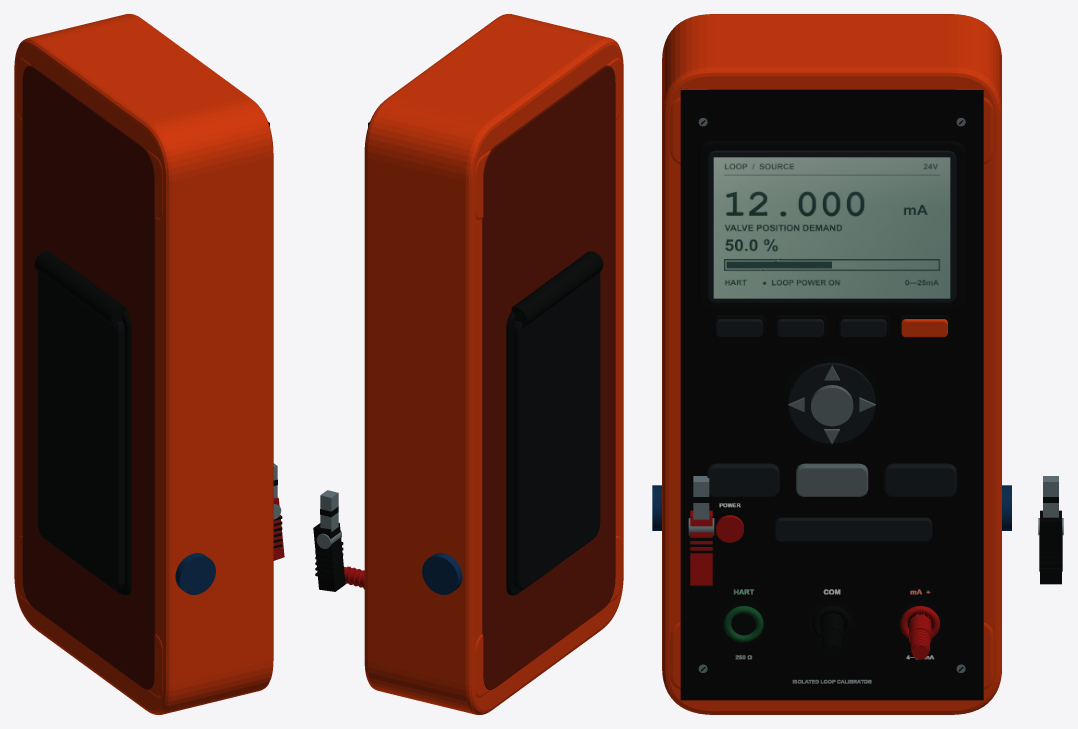
File: positioner-signal-source.fbx
3 views of the same model, side by side, from view 1: azimuth 30°, elevation 25°; view 2: azimuth 150°, elevation 25°; view 3: azimuth 270°, elevation 25° (orthographic). The views are drawn at different scales.
Visible parts, largest first — view 1: orange_shockproof_boot, rear_battery_cover, rear_folding_stand, rear_stand_hinge, rear_stand_recess, AA_battery_1, corner_bumper_8.6_-4.12, corner_bumper_-8.6_-4.12, corner_bumper_8.6_4.12, corner_bumper_-8.6_4.12; view 2: orange_shockproof_boot, rear_battery_cover, rear_folding_stand, rear_stand_hinge, rear_stand_recess, AA_battery_4, common_clip_insulated_body, common_clip_metal_jaw, corner_bumper_8.6_4.12, corner_bumper_-8.6_4.12, corner_bumper_8.6_-4.12; view 3: front_panel_legends, orange_shockproof_boot, active_lcd_12mA, lcd_outer_bezel, lcd_inner_bezel, hart_mode_key, navigation_ring, valve_step_key_100, valve_step_key_50, valve_step_key_0, navigation_recess, navigation_enter_key (+13 smaller).
Part boxes in pixels (<box>): orange_shockproof_boot: <box>14,14,273,714</box>; rear_battery_cover: <box>22,65,155,689</box>; rear_folding_stand: <box>38,272,124,589</box>; rear_stand_hinge: <box>34,251,126,328</box>; rear_stand_recess: <box>115,312,131,595</box>; AA_battery_1: <box>175,553,215,594</box>; corner_bumper_8.6_-4.12: <box>147,151,162,219</box>; corner_bumper_-8.6_-4.12: <box>148,634,162,697</box>; corner_bumper_8.6_4.12: <box>16,58,30,120</box>; corner_bumper_-8.6_4.12: <box>16,536,29,603</box>; orange_shockproof_boot: <box>364,14,623,714</box>; rear_battery_cover: <box>482,65,615,689</box>; rear_folding_stand: <box>513,272,600,589</box>; rear_stand_hinge: <box>511,251,603,328</box>; rear_stand_recess: <box>506,312,522,595</box>; AA_battery_4: <box>422,553,462,594</box>; common_clip_insulated_body: <box>313,523,345,591</box>; common_clip_metal_jaw: <box>320,490,338,531</box>; corner_bumper_8.6_4.12: <box>475,150,490,219</box>; corner_bumper_-8.6_4.12: <box>475,634,489,697</box>; corner_bumper_8.6_-4.12: <box>607,58,622,120</box>; front_panel_legends: <box>680,90,983,700</box>; orange_shockproof_boot: <box>662,14,1001,714</box>; active_lcd_12mA: <box>713,157,950,298</box>; lcd_outer_bezel: <box>698,141,965,309</box>; lcd_inner_bezel: <box>707,150,956,302</box>; hart_mode_key: <box>775,517,932,541</box>; navigation_ring: <box>788,362,875,443</box>; valve_step_key_100: <box>884,463,956,496</box>; valve_step_key_50: <box>796,463,868,496</box>; valve_step_key_0: <box>707,463,779,496</box>; navigation_recess: <box>782,357,881,446</box>; navigation_enter_key: <box>811,385,853,426</box>.
Bounding box in the file's own units: 0.0689 × 0.212 × 0.1222.
Materials: 20 (4 with a texture image).
